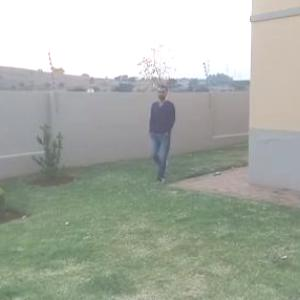follow: (150, 82, 185, 183)
